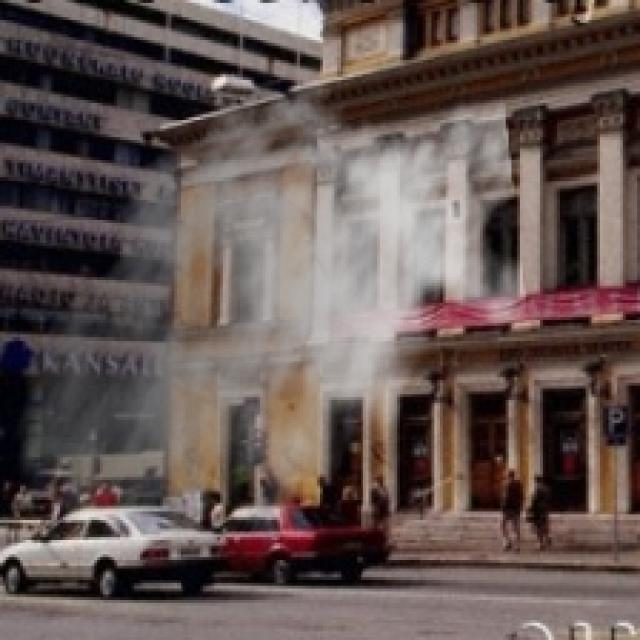smoke: (11, 63, 528, 583)
